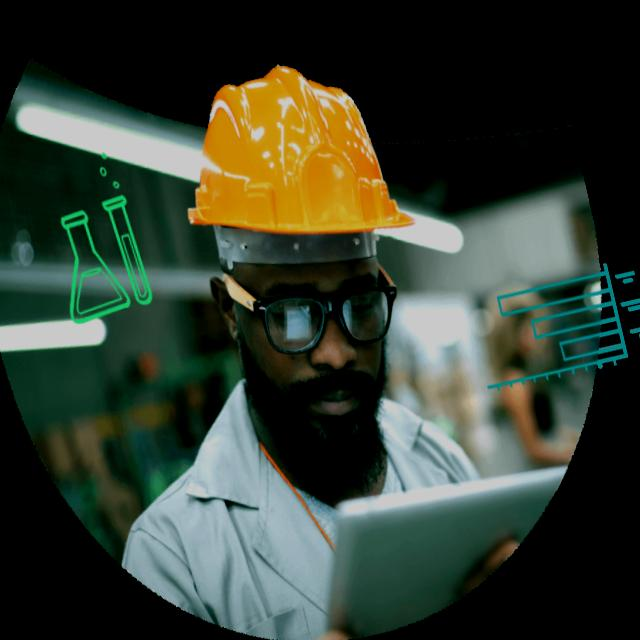helmet: (156, 36, 418, 287)
no-goggles: (223, 248, 406, 372)
no-vest: (110, 351, 487, 640)
